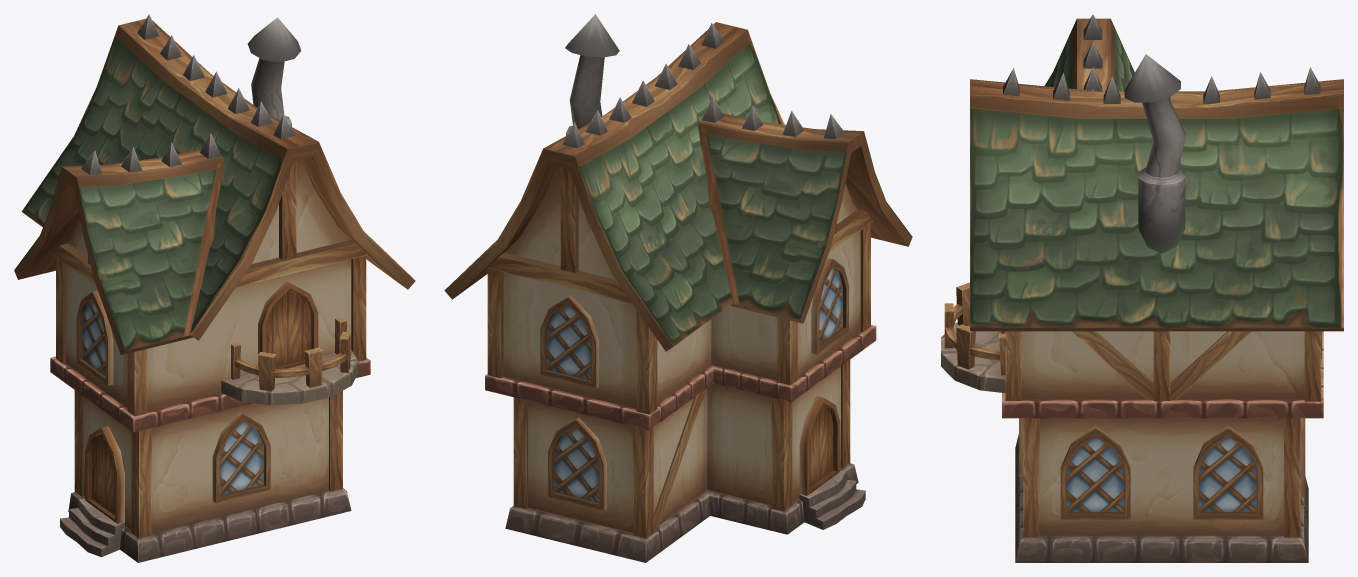
File: Witch_house.FBX
The picture shows the model from 3 angles, left to right: view 1: azimuth 30°, elevation 25°; view 2: azimuth 150°, elevation 25°; view 3: azimuth 270°, elevation 25°; orthographic projection. The views are drawn at different scales.
Visible parts, largest first — view 1: Witch_house; view 2: Witch_house; view 3: Witch_house.
Part boxes in pixels (x1=…): Witch_house: x1=14, y1=14, x2=415, y2=562; Witch_house: x1=444, y1=14, x2=912, y2=562; Witch_house: x1=941, y1=14, x2=1343, y2=562.
Size of what is drawn, in the model's own units: 754 by 820 by 1126.
